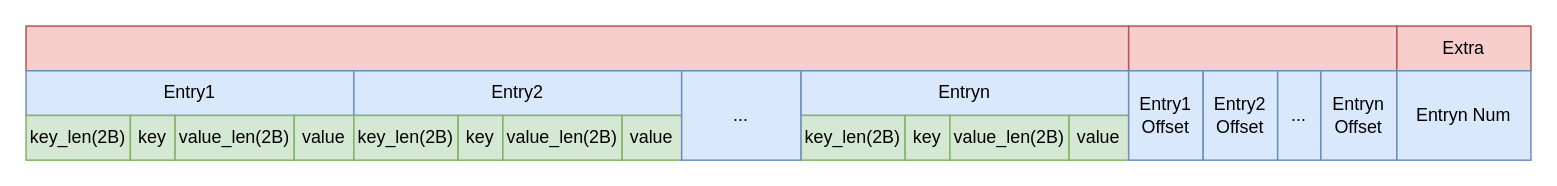
Image size: 1557x186. Some labels were removed from this diagram. The centre of each missing label's shape, as x and y in pixels:
"Data" goes at (x=577, y=48).
"Offset" goes at (x=1262, y=48).
